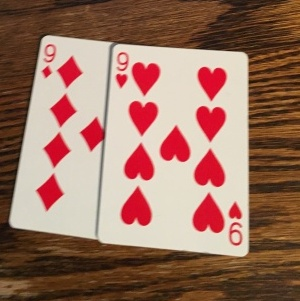card: (97, 44, 251, 257), (4, 33, 109, 243)
